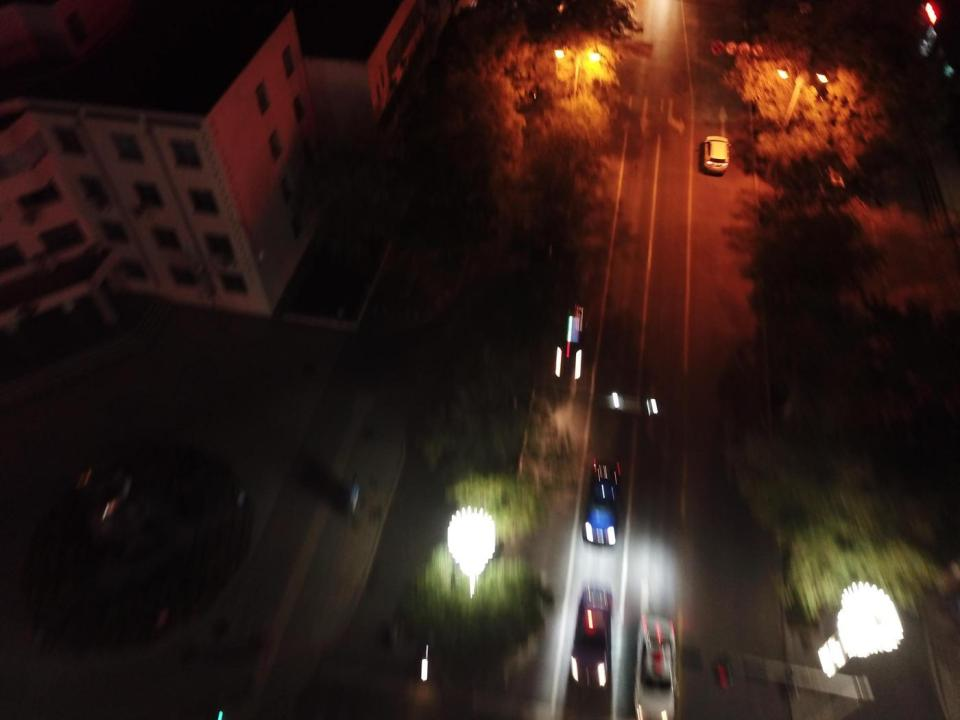car: (605, 327, 658, 417), (633, 613, 677, 720), (569, 586, 612, 690), (581, 458, 618, 545), (551, 301, 587, 380), (703, 136, 731, 173)
